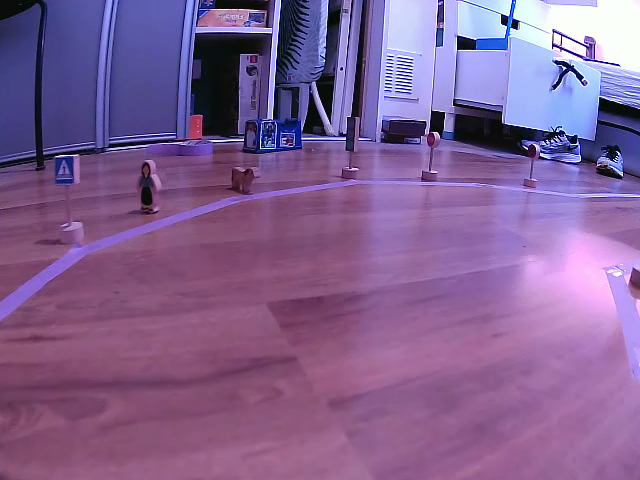mens: (133, 160, 163, 213)
paard: (229, 163, 262, 194)
zebrapad: (52, 155, 79, 186)
